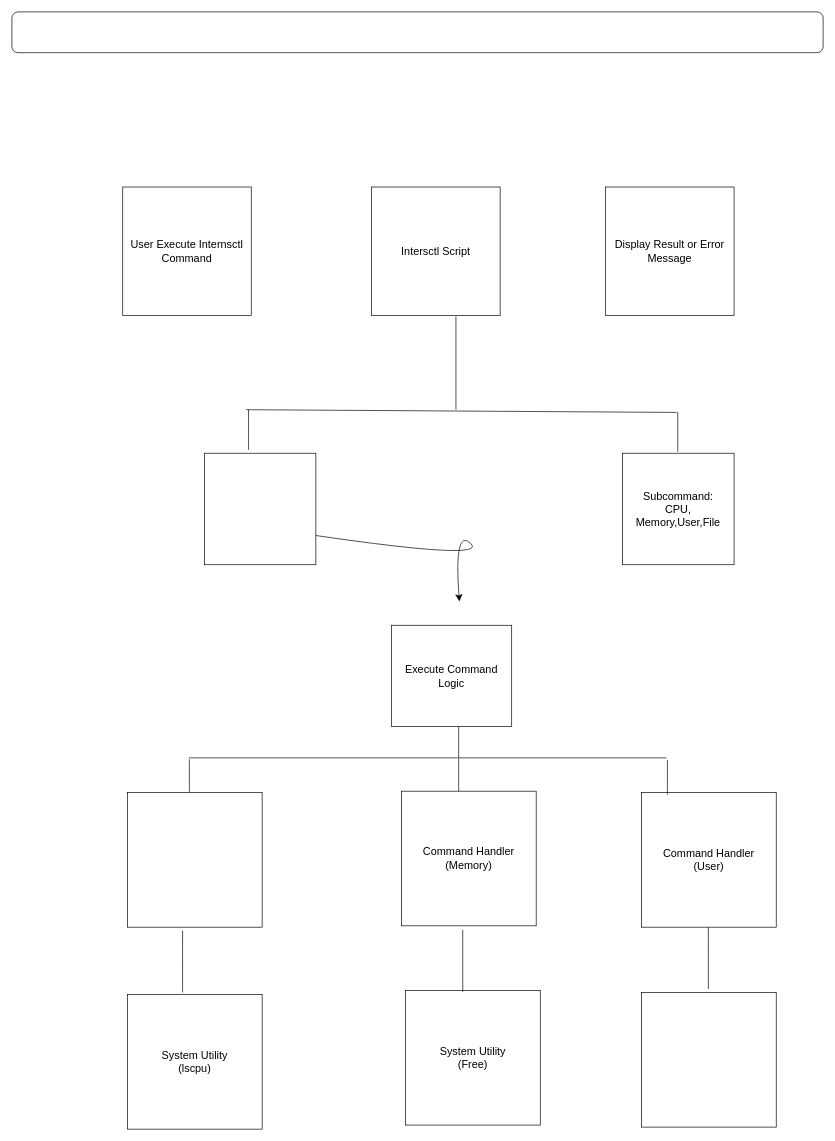
The diagram is 835 pixels wide and 1141 high, and some of its shapes have lost their labels. The shapes that lost their labels are listed below. From the top down, each one's centre as x and y in pixels, then its label:
At (417,32): "ARCHITECTURAL DIAGRAM".
At (260,509): "Decision: Command Type?".
At (194,859): "Command Handler (CPU)".
At (708,1059): "System Utility (useradd, passwd)".
